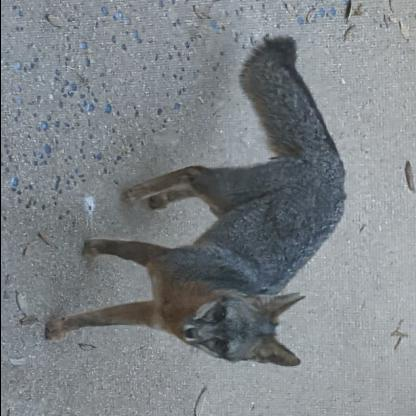zorro: (37, 27, 350, 376)
